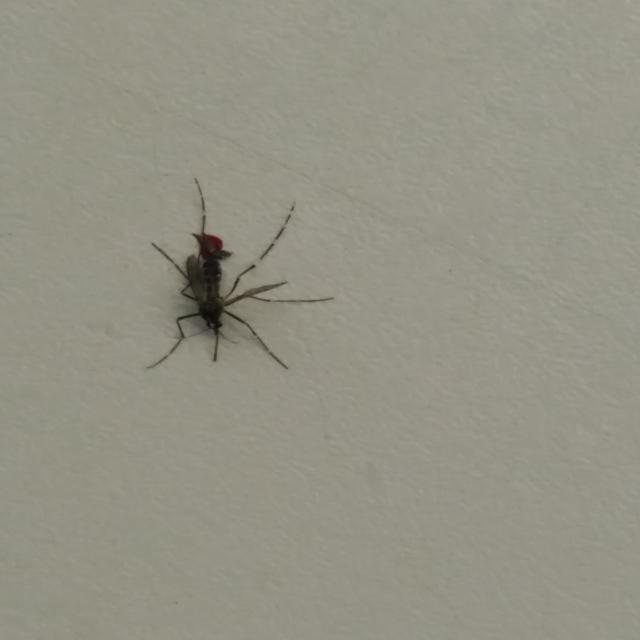albopictus: (129, 177, 330, 380)
